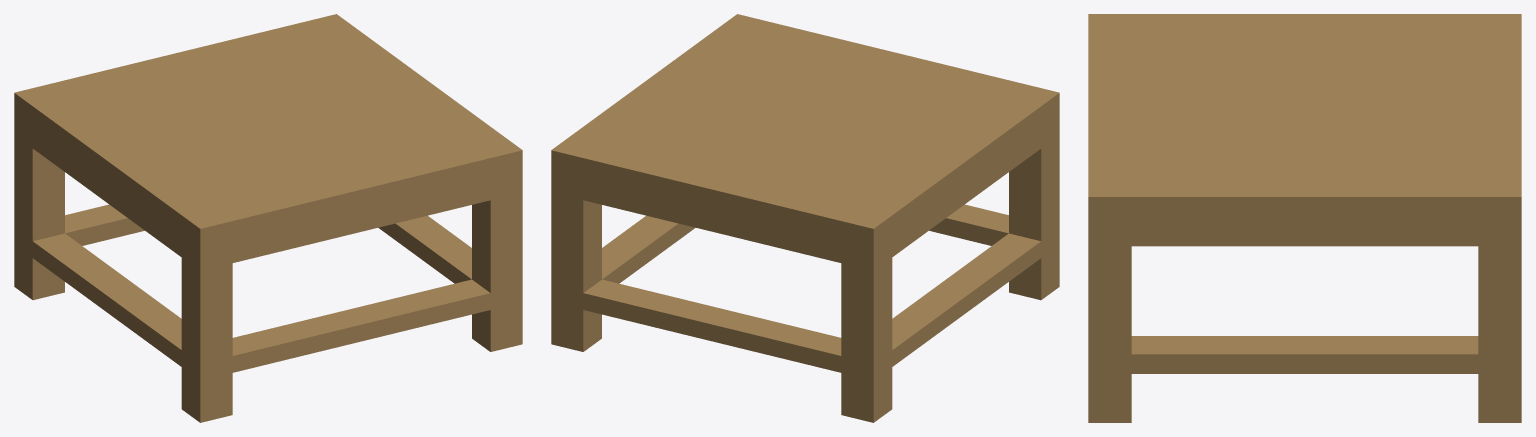
File: coffee_table_square.glb
3 views of the same model, side by side, from view 1: azimuth 30°, elevation 25°; view 2: azimuth 150°, elevation 25°; view 3: azimuth 270°, elevation 25° (orthographic). The views are drawn at different scales.
Visible parts, largest first — view 1: coffee_table_square; view 2: coffee_table_square; view 3: coffee_table_square.
Part boxes in pixels (<box>): coffee_table_square: <box>14,14,522,422</box>; coffee_table_square: <box>551,14,1059,422</box>; coffee_table_square: <box>1088,14,1521,422</box>.
Bounding box in the file's own units: 0.7 × 0.4025 × 0.7.
